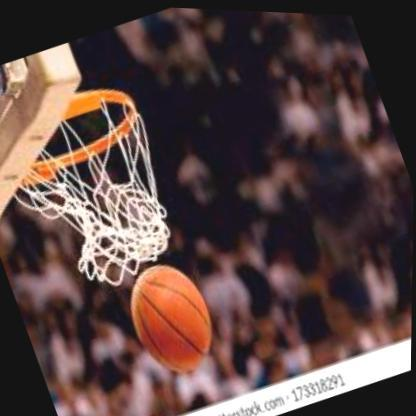basketball: (116, 250, 227, 384)
rim: (0, 64, 153, 194)
